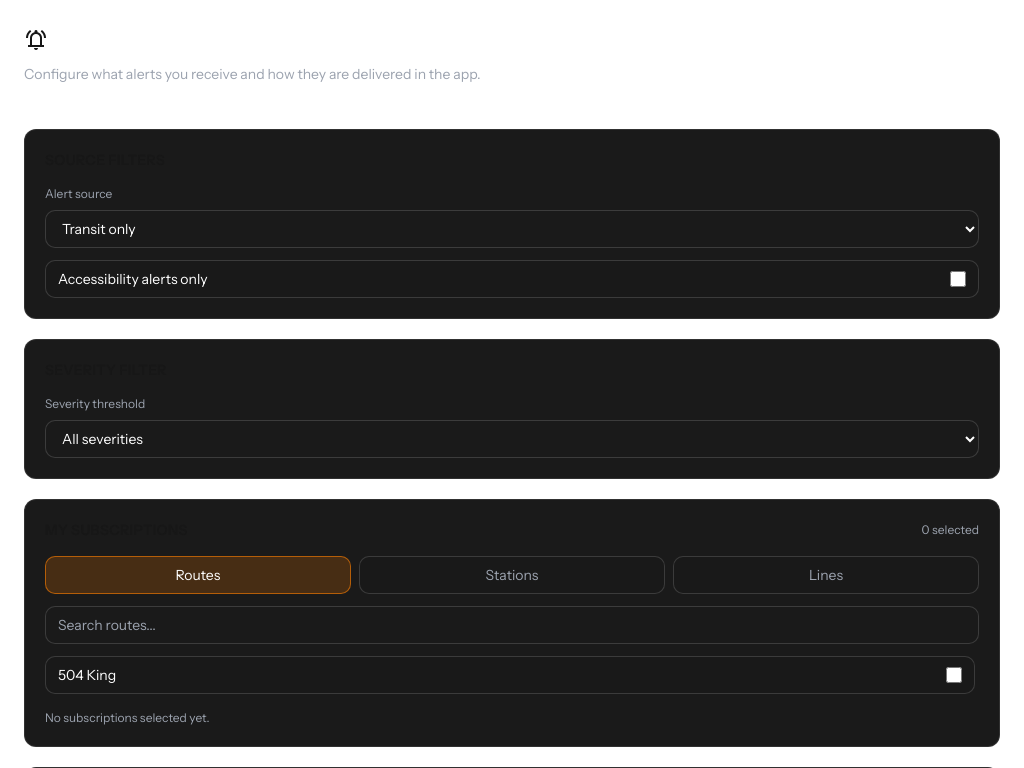
Test case: SettingsView › supports station and line tabs in subscription manager
This screenshot has width=1024, height=768.
Click the button "Stations". click: [512, 575]
box: left=359, top=556, right=665, bottom=594
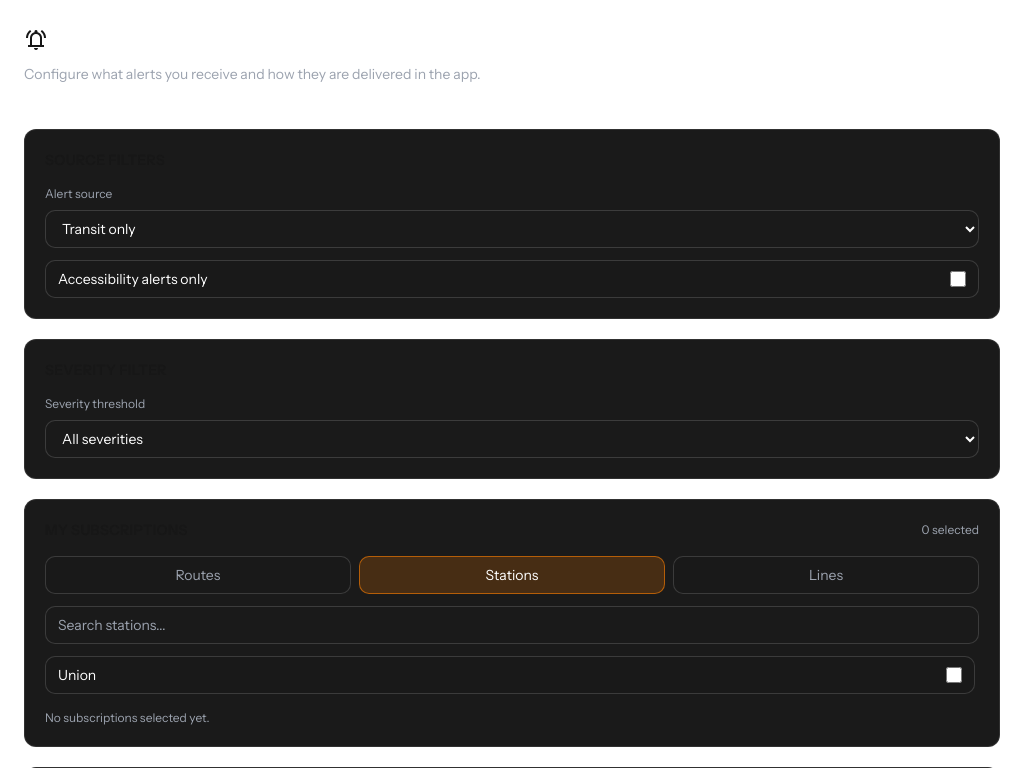
Expected: the text "Union" is shown, left=58, top=665, right=96, bottom=685
Click the button "Lines". click: [826, 575]
box: left=673, top=556, right=979, bottom=594
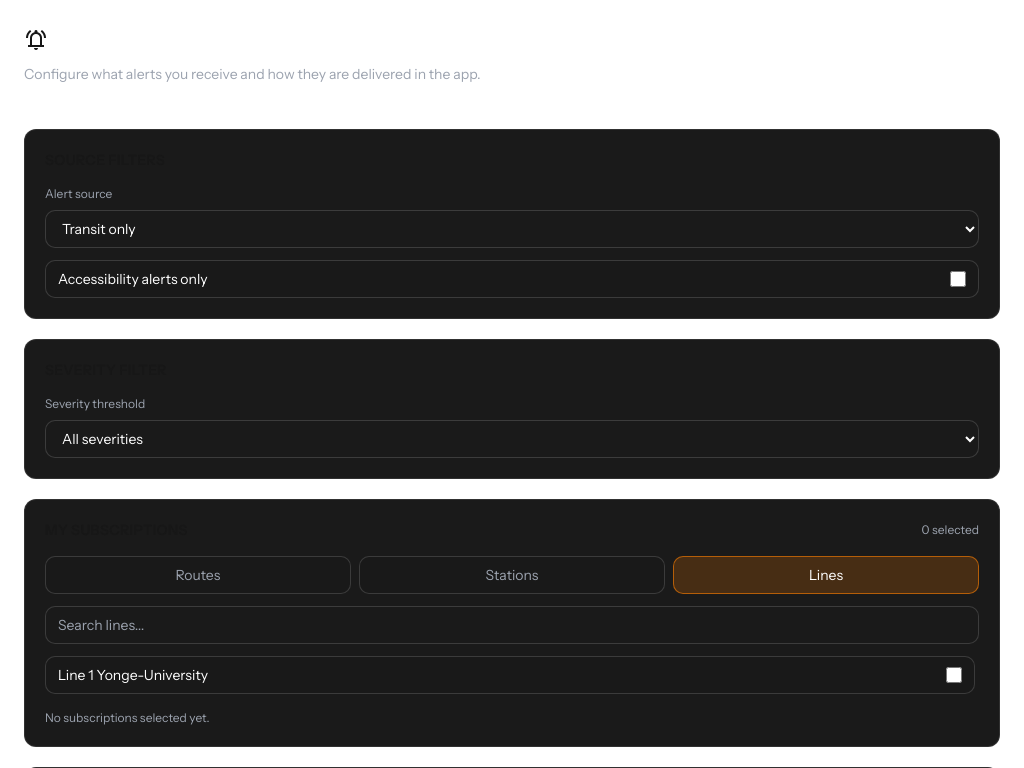
Expected: the text "Line 1 Yonge-University" is shown, left=58, top=665, right=208, bottom=685
